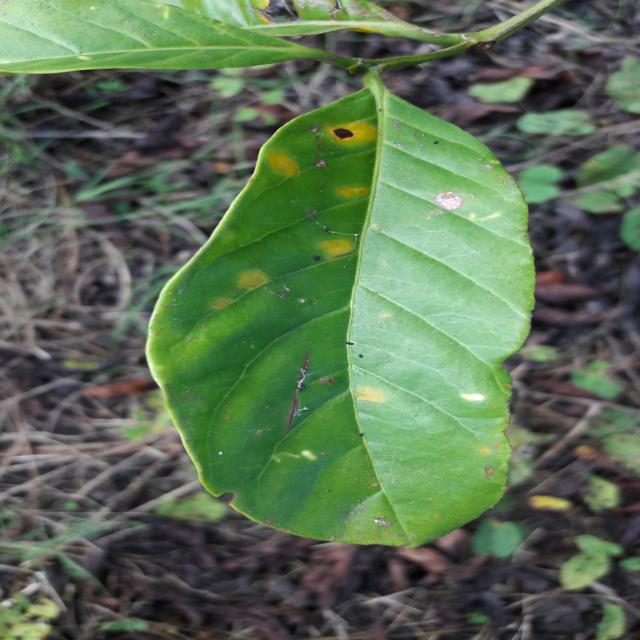Enfermedad-Roya: (145, 73, 532, 550)
